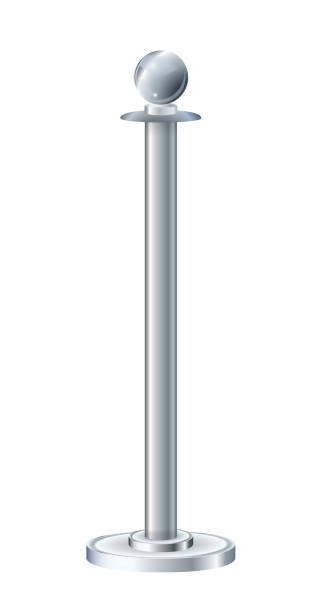light_pole: (140, 125, 184, 544)
